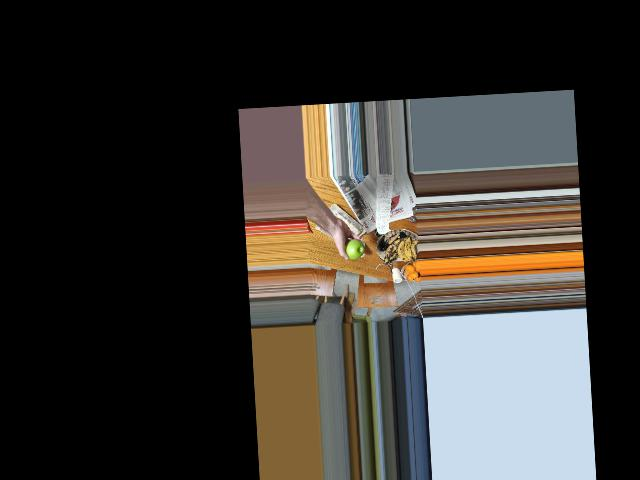apple: (342, 237, 363, 260)
